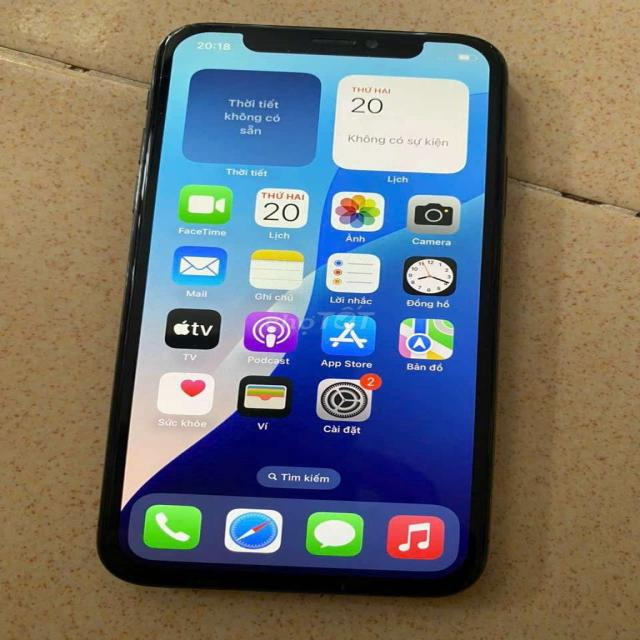gen_x_xs: (98, 23, 506, 596)
